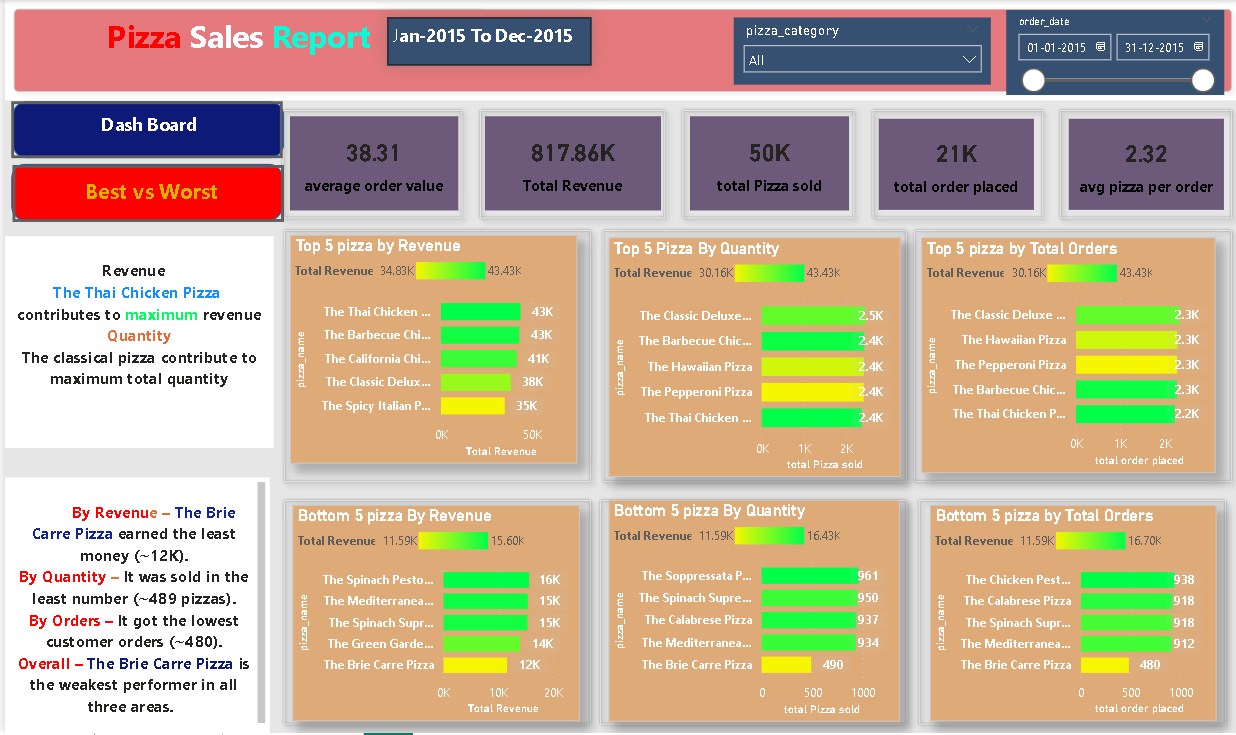

What the dashboard file says about the page in this screenshot:
{"tool":"powerbi","page":{"name":"Best vs Worst ","canvas":[1280,760],"ordinal":1},"visuals":[{"type":"shape","box":[278.6,104.3,204.5,130.4],"z":0},{"type":"shape","box":[483,104.3,209.9,130.4],"z":1000},{"type":"shape","box":[693,104.3,196.2,130.4],"z":2000},{"type":"shape","box":[889.2,104.3,194.9,130.4],"z":3000},{"type":"shape","box":[1083.8,104.3,196.2,130.4],"z":4000},{"type":"card","fields":{"Values":["pizzasproject pizza_sales.aaverage order value"]},"box":[295,120.8,174.3,97.4],"z":5000},{"type":"card","fields":{"Values":["pizzasproject pizza_sales.Total Revenue"]},"box":[496.7,120.8,182.5,97.4],"z":6000},{"type":"card","fields":{"Values":["pizzasproject pizza_sales.total Pizza sold"]},"box":[709.4,120.8,164.7,97.4],"z":7000},{"type":"card","fields":{"Values":["pizzasproject pizza_sales.total order placed"]},"box":[905.7,123.5,160.5,94.7],"z":8000},{"type":"card","fields":{"Values":["pizzasproject pizza_sales.avg pizza per order"]},"box":[1101.9,123.5,160.5,94.7],"z":9000},{"type":"shape","box":[0,0,1280.3,104.3],"z":10000},{"type":"textbox","box":[101.2,10,305,78.4],"z":11000},{"type":"textbox","box":[0,244.8,278.5,218.9],"z":12000},{"type":"textbox","box":[0,495.4,274.4,264.8],"z":13000},{"type":"shape","box":[279.4,229.5,336.4,279.4],"z":14000},{"type":"shape","box":[610.1,229.5,333.5,279.4],"z":15000},{"type":"shape","box":[932.2,229.5,347.8,279.4],"z":16000},{"type":"slicer","fields":{"Values":["pizzasproject pizza_sales.pizza_category"]},"box":[755.5,18.5,266.5,69.8],"z":17000},{"type":"slicer","fields":{"Values":["pizzasproject pizza_sales.order_date"]},"box":[1037.7,10,225.2,86.9],"z":18000},{"type":"clusteredBarChart","title":"Top 5 pizza by Revenue","fields":{"Category":["pizzasproject pizza_sales.pizza_name"],"Y":["pizzasproject pizza_sales.Total Revenue"]},"box":[295.1,243.7,297.9,236.6],"z":19000},{"type":"clusteredBarChart","title":"Top 5 Pizza By Quantity","fields":{"Y":["pizzasproject pizza_sales.total Pizza sold"],"Category":["pizzasproject pizza_sales.pizza_name"]},"box":[625.7,246.6,302.2,248],"z":20000},{"type":"barChart","title":"Top 5 pizza by Total Orders","fields":{"Category":["pizzasproject pizza_sales.pizza_name"],"Y":["pizzasproject pizza_sales.total order placed"]},"box":[949.3,246.6,305,243.7],"z":21000},{"type":"shape","box":[279.4,508.9,336.4,250.9],"z":22000},{"type":"shape","box":[607.2,508.9,336.4,250.9],"z":23000},{"type":"shape","box":[937.9,508.9,336.4,250.9],"z":24000},{"type":"clusteredBarChart","title":"Bottom 5 pizza By Revenue","fields":{"Category":["pizzasproject pizza_sales.pizza_name"],"Y":["pizzasproject pizza_sales.Total Revenue"]},"box":[297.9,523.1,297.9,223.8],"z":25000},{"type":"clusteredBarChart","title":"Bottom 5 pizza By Quantity","fields":{"Y":["pizzasproject pizza_sales.total Pizza sold"],"Category":["pizzasproject pizza_sales.pizza_name"]},"box":[625.6,518.1,301.8,229.2],"z":26000},{"type":"barChart","title":"Bottom 5 pizza by Total Orders","fields":{"Category":["pizzasproject pizza_sales.pizza_name"],"Y":["pizzasproject pizza_sales.total order placed"]},"box":[957.9,523.1,296.5,223.8],"z":27000},{"type":"textbox","box":[396.3,18.5,211,49.9],"z":28000},{"type":"shape","box":[8.2,104.3,281.3,59],"z":29000},{"type":"textbox","box":[54.9,111.1,189.4,46.7],"z":30000},{"type":"shape","box":[6.9,170.2,281.3,59],"z":31000},{"type":"textbox","box":[65.9,177,178.4,46.7],"z":32000},{"type":"actionButton","box":[6.9,104.3,281.3,59],"z":33000},{"type":"actionButton","box":[8.2,171.5,281.3,59],"z":34000}]}

Visuals, with their boxes in screenshot pixels (x1, y1, x2, y2), scaled from the page's 1280x760 canvas onto the 1236x735 screenshot:
shape: (left=269, top=101, right=466, bottom=227)
shape: (left=466, top=101, right=669, bottom=227)
shape: (left=669, top=101, right=859, bottom=227)
shape: (left=859, top=101, right=1047, bottom=227)
shape: (left=1047, top=101, right=1235, bottom=227)
card - pizzasproject pizza_sales.aaverage order value: (left=285, top=117, right=453, bottom=211)
card - pizzasproject pizza_sales.Total Revenue: (left=480, top=117, right=656, bottom=211)
card - pizzasproject pizza_sales.total Pizza sold: (left=685, top=117, right=844, bottom=211)
card - pizzasproject pizza_sales.total order placed: (left=875, top=119, right=1030, bottom=211)
card - pizzasproject pizza_sales.avg pizza per order: (left=1064, top=119, right=1219, bottom=211)
shape: (left=0, top=0, right=1235, bottom=101)
textbox: (left=98, top=10, right=392, bottom=85)
textbox: (left=0, top=237, right=269, bottom=448)
textbox: (left=0, top=479, right=265, bottom=734)
shape: (left=270, top=222, right=595, bottom=492)
shape: (left=589, top=222, right=911, bottom=492)
shape: (left=900, top=222, right=1235, bottom=492)
slicer - pizzasproject pizza_sales.pizza_category: (left=730, top=18, right=987, bottom=85)
slicer - pizzasproject pizza_sales.order_date: (left=1002, top=10, right=1219, bottom=94)
"Top 5 pizza by Revenue" clusteredBarChart: (left=285, top=236, right=573, bottom=465)
"Top 5 Pizza By Quantity" clusteredBarChart: (left=604, top=238, right=896, bottom=478)
"Top 5 pizza by Total Orders" barChart: (left=917, top=238, right=1211, bottom=474)
shape: (left=270, top=492, right=595, bottom=734)
shape: (left=586, top=492, right=911, bottom=734)
shape: (left=906, top=492, right=1230, bottom=734)
"Bottom 5 pizza By Revenue" clusteredBarChart: (left=288, top=506, right=575, bottom=722)
"Bottom 5 pizza By Quantity" clusteredBarChart: (left=604, top=501, right=896, bottom=723)
"Bottom 5 pizza by Total Orders" barChart: (left=925, top=506, right=1211, bottom=722)
textbox: (left=383, top=18, right=586, bottom=66)
shape: (left=8, top=101, right=280, bottom=158)
textbox: (left=53, top=107, right=236, bottom=153)
shape: (left=7, top=165, right=278, bottom=222)
textbox: (left=64, top=171, right=236, bottom=216)
actionButton: (left=7, top=101, right=278, bottom=158)
actionButton: (left=8, top=166, right=280, bottom=223)
